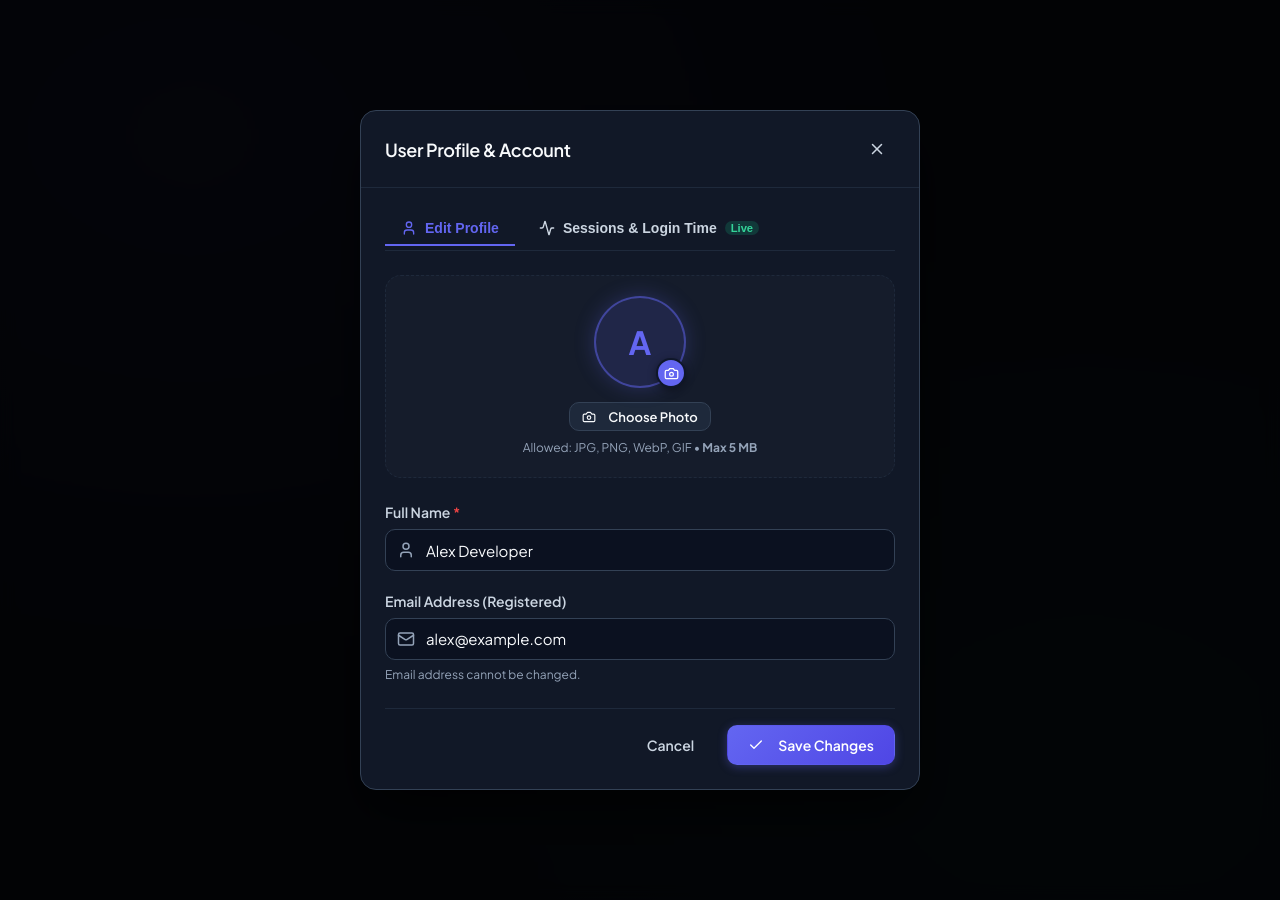
it: EditProfileModal Component › validates name length when submitting
Replace the text in the field labelled "Full Name *" with "A" at (640, 550), box [385,529,895,571]
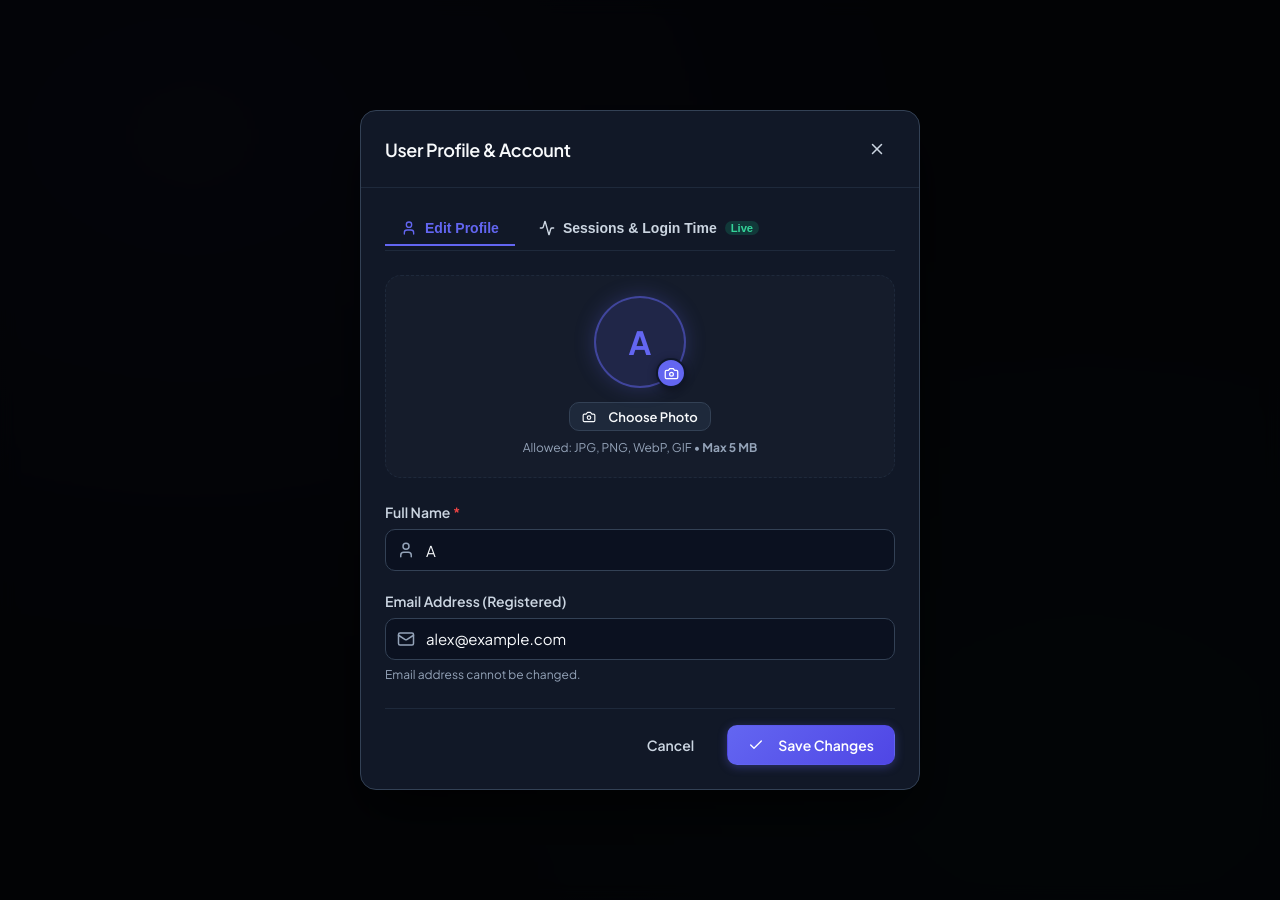
Click the button "Save Changes" at (811, 745), box [727,725,895,765]
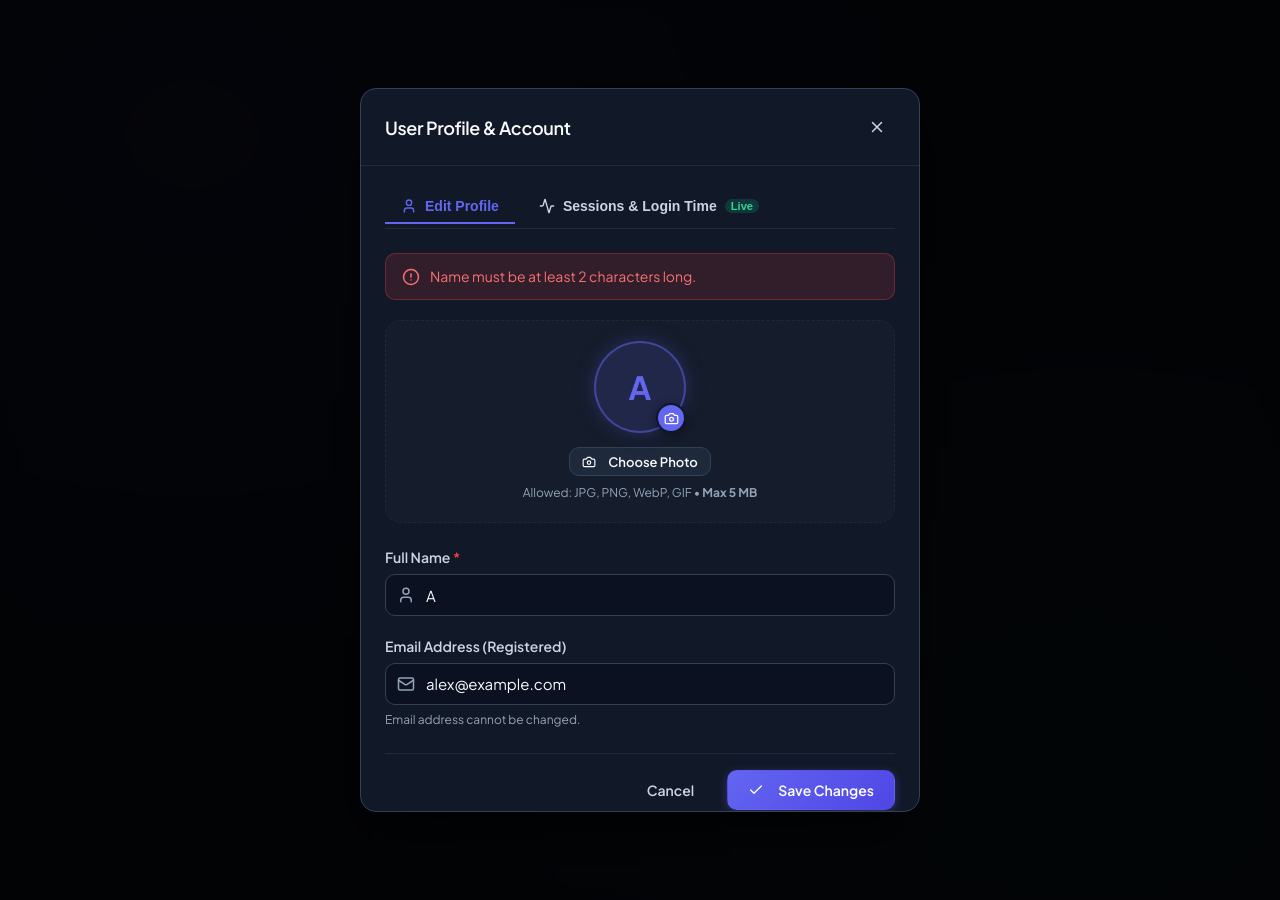
Now the text "Name must be at least 2 characters long." is shown, box [430,266,696,287]
